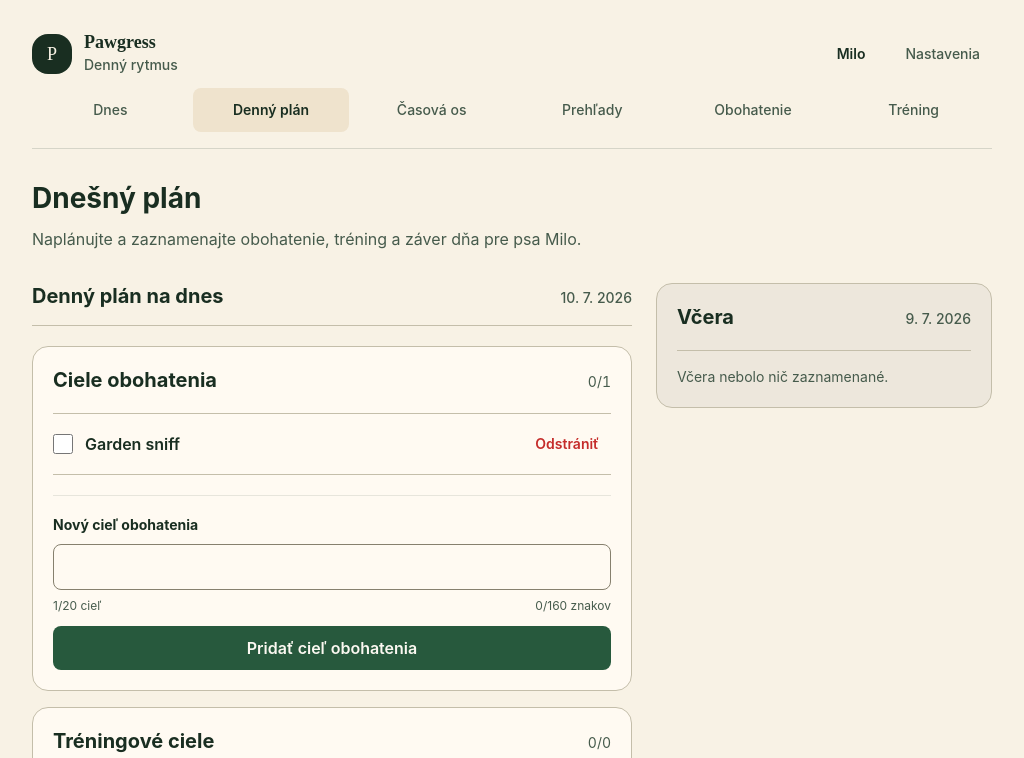
Test: AgendaPage › renders Slovak copy, ARIA labels, validation, and dates
This screenshot has width=1024, height=758.
Expected: the heading "Dnešný plán" is shown, [32, 181, 201, 215]
Expected: the field labelled "Nový cieľ obohatenia" is shown, [53, 544, 611, 590]
Click the button "Pridať cieľ obohatenia" at (332, 648), box [53, 626, 611, 670]
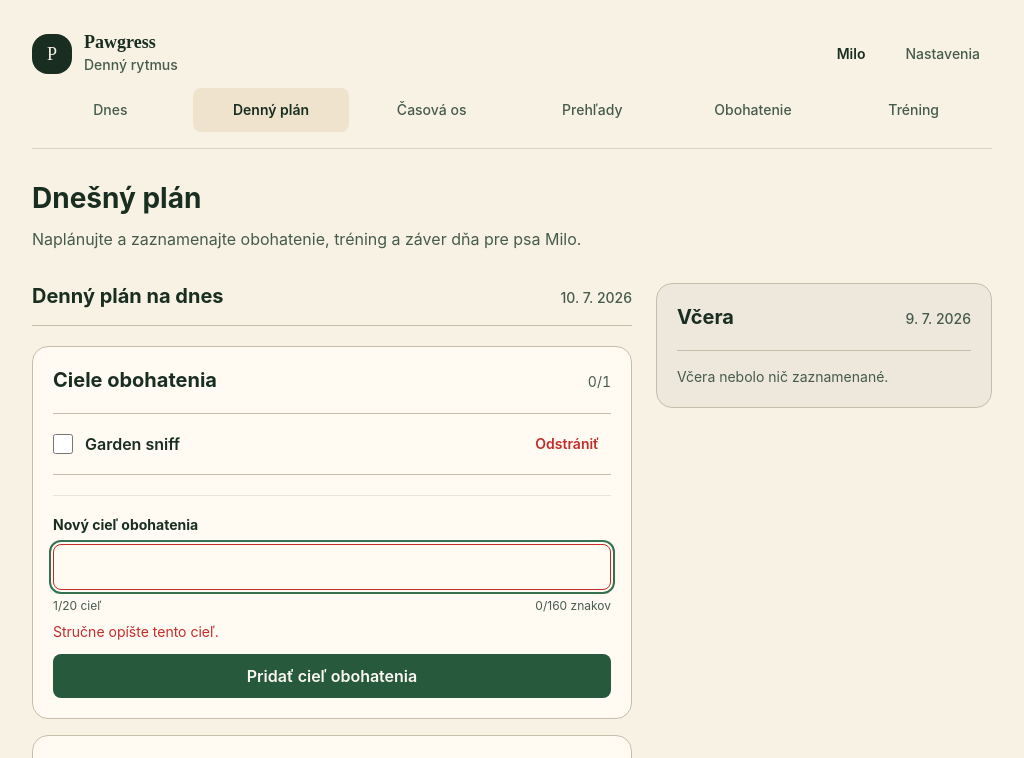
Now the text "Stručne opíšte tento cieľ." is shown, box [53, 623, 219, 640]
